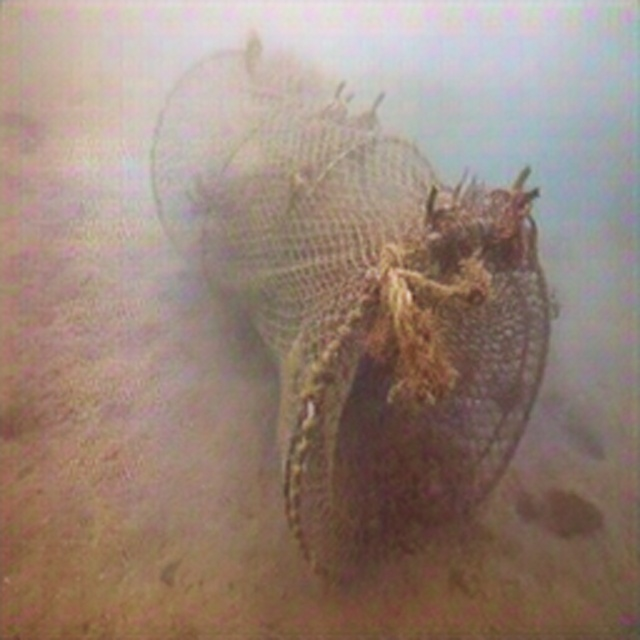mine: (150, 46, 551, 583)
